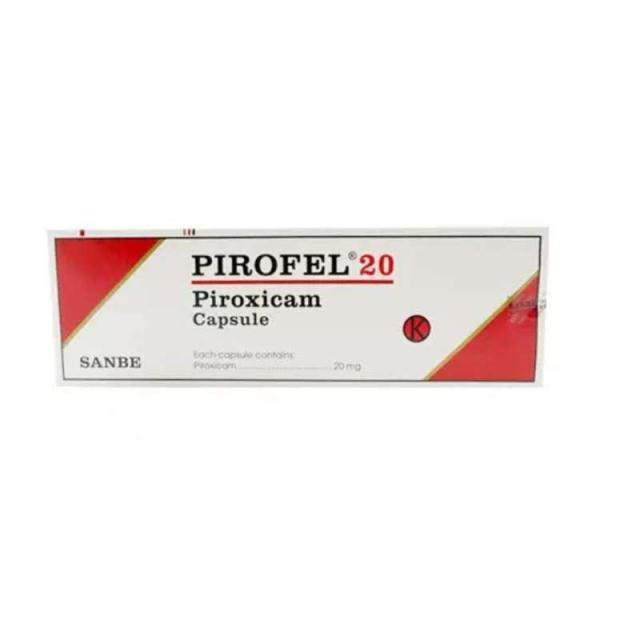drug-name: (187, 242, 395, 278)
